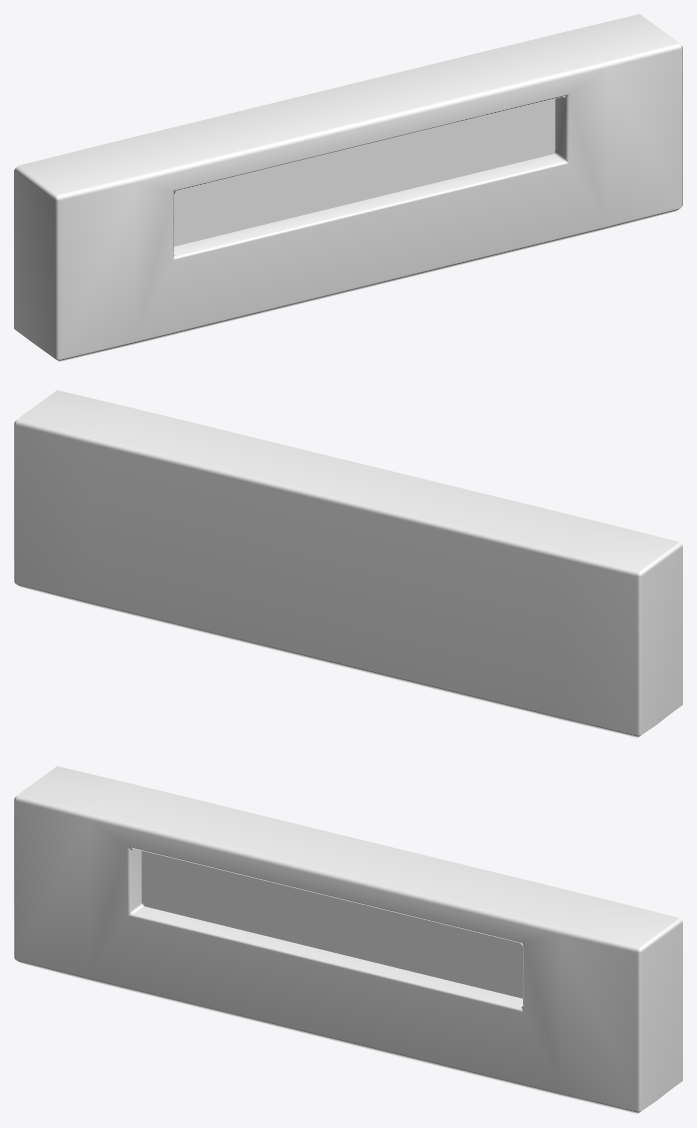
Rendered from mod_sc_roma_001_porpwall_001.fbx.
3 views of the same model, one above another, from view 1: azimuth 30°, elevation 25°; view 2: azimuth 150°, elevation 25°; view 3: azimuth 330°, elevation 25° (orthographic).
Visible parts, largest first — view 1: mod_sc_roma_001_porpwall_001; view 2: mod_sc_roma_001_porpwall_001; view 3: mod_sc_roma_001_porpwall_001.
Boxes of the visible parts, bbox=[...] form: mod_sc_roma_001_porpwall_001: bbox=[14, 14, 682, 361]; mod_sc_roma_001_porpwall_001: bbox=[14, 390, 682, 737]; mod_sc_roma_001_porpwall_001: bbox=[14, 766, 682, 1113].
Size of what is drawn, in the model's own units: 798 by 205 by 100.
